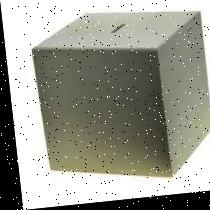cube: (28, 6, 210, 190)
